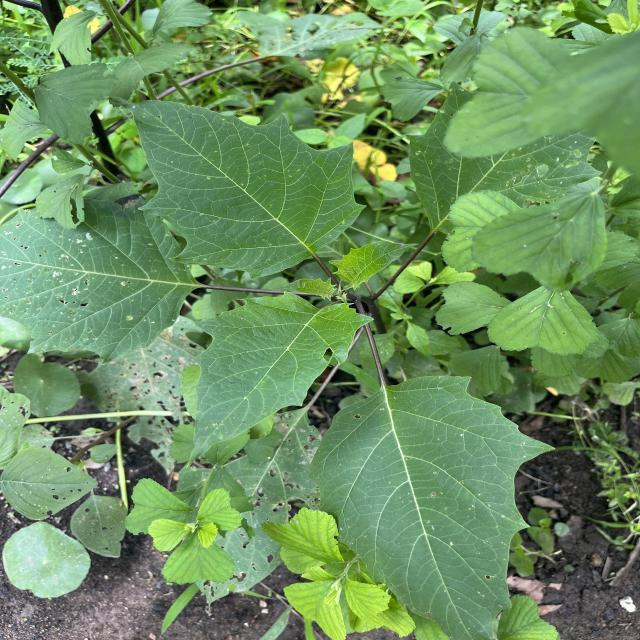Datura metal linn: (306, 373, 559, 640), (102, 95, 370, 282), (178, 288, 378, 474)
